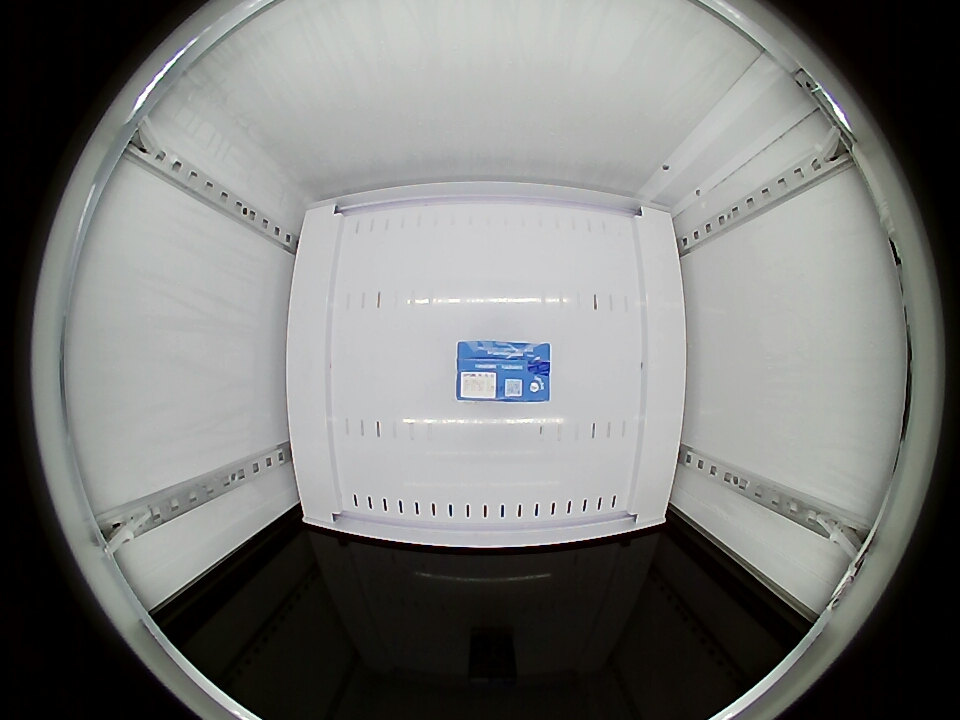weitanai: (455, 340, 552, 403)
